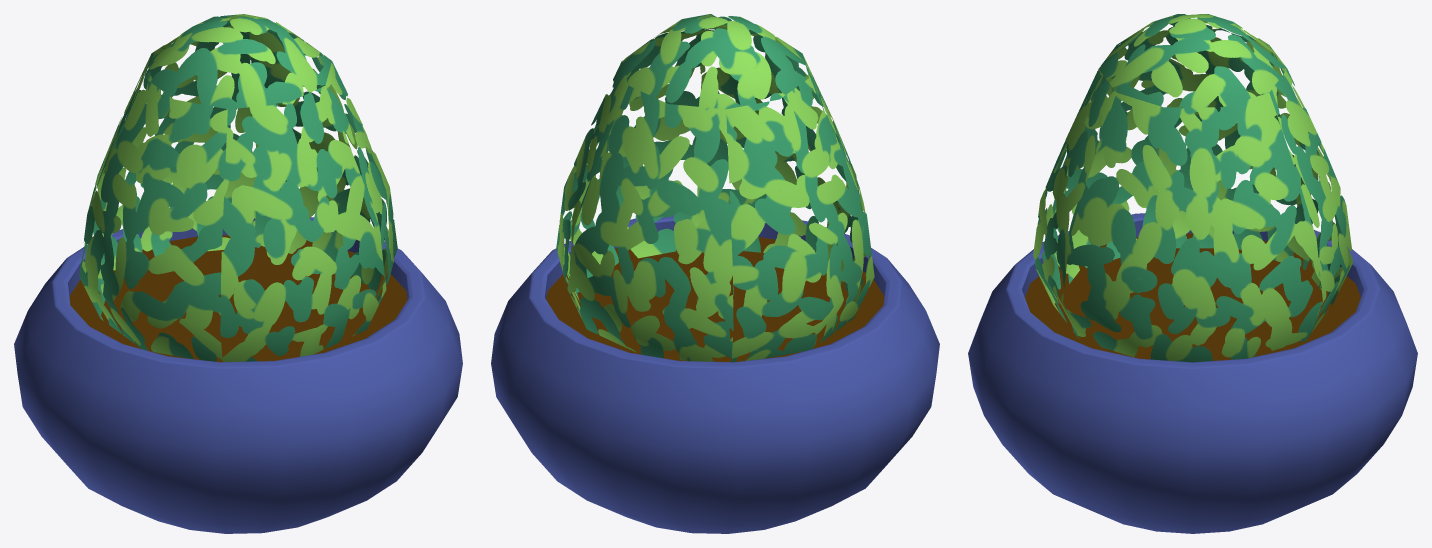
Rendered from SmallPlant_Model.fbx.
The picture shows the model from 3 angles, left to right: view 1: azimuth 30°, elevation 25°; view 2: azimuth 150°, elevation 25°; view 3: azimuth 270°, elevation 25°; orthographic projection.
Visible parts, largest first — view 1: pasted__pCylinder1; view 2: pasted__pCylinder1; view 3: pasted__pCylinder1.
Boxes of the visible parts, x1,y1,x2,y2 form: pasted__pCylinder1: (14,14,462,533); pasted__pCylinder1: (491,14,939,533); pasted__pCylinder1: (968,14,1417,533).
Bounding box in the file's own units: 2.31 × 2.62 × 2.3.
1 material, 1 textured.
